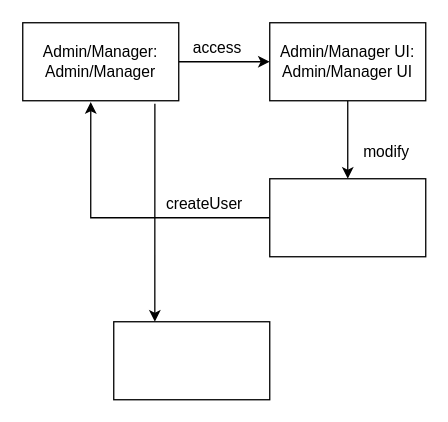
Some shapes in this 448 by 422 pixel diagram are drawn without their labels. The shapes that lost their labels are listed below. From the top down, each one's centre as x and y in pixels, then its label:
At (x=347, y=217): "ModifyUsers: ModifyUsers".
At (x=191, y=360): "NewUser: User".
